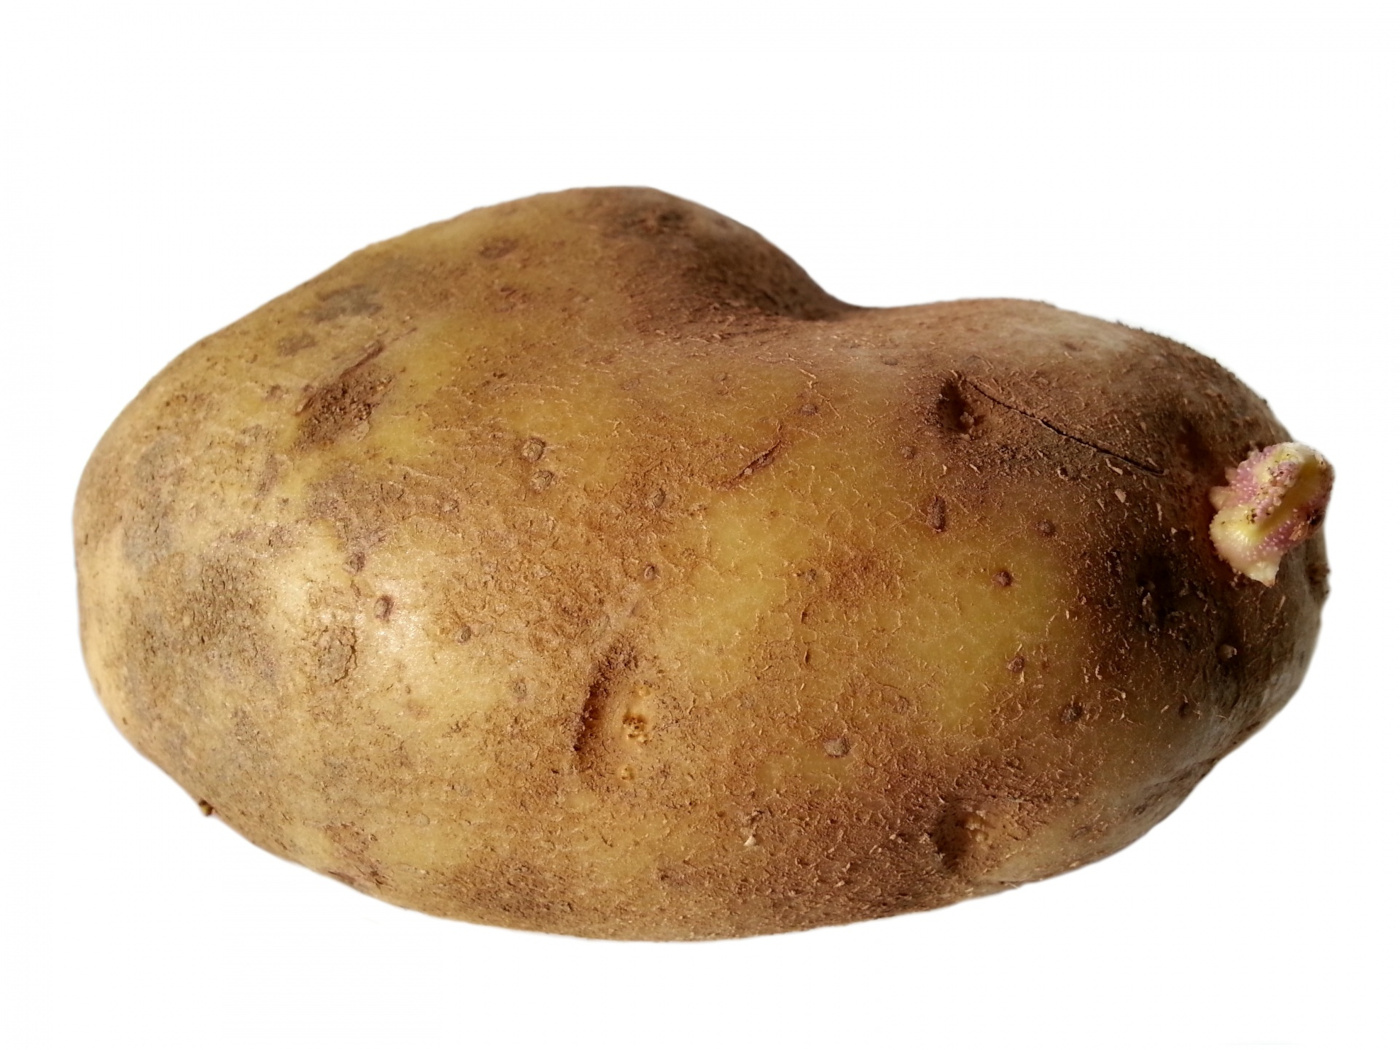potato: (68, 108, 1338, 944)
